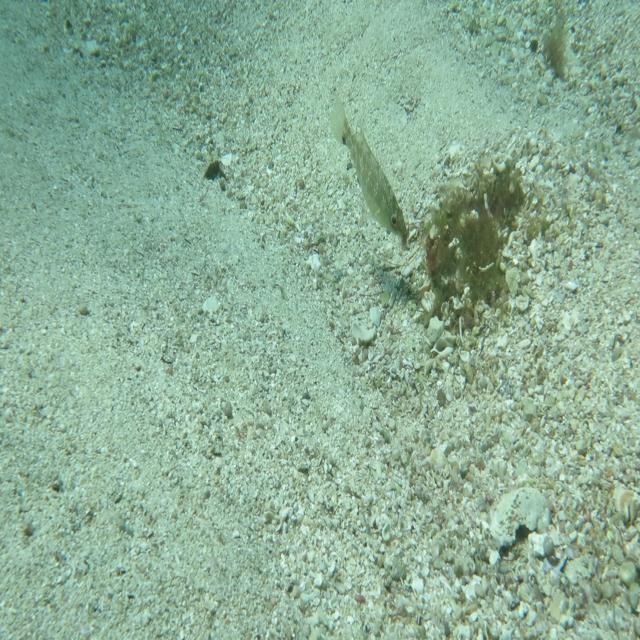AM: (327, 92, 410, 240)
core_nest: (486, 168, 522, 203)
nest: (422, 150, 539, 337)
nest_material: (401, 227, 413, 255)
vegetation: (540, 6, 572, 87), (202, 156, 223, 182)
